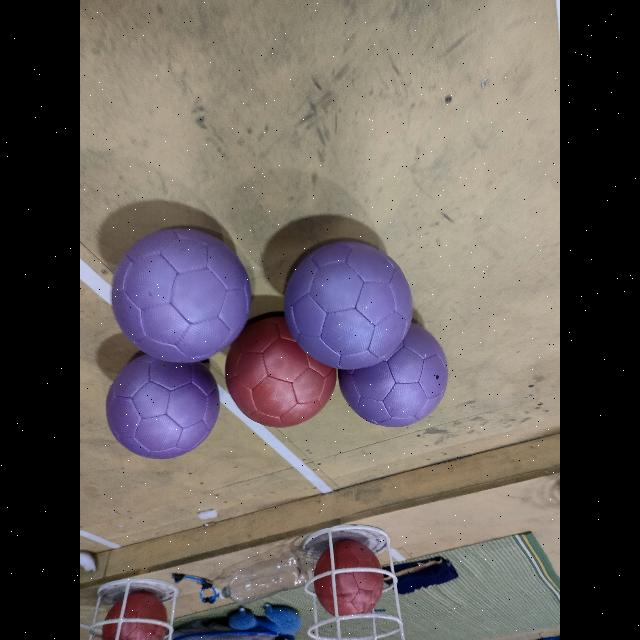P: (112, 229, 250, 363), (284, 242, 412, 370), (106, 357, 220, 459), (339, 322, 445, 430)
R: (226, 317, 336, 427), (314, 540, 384, 618), (102, 592, 168, 640)
